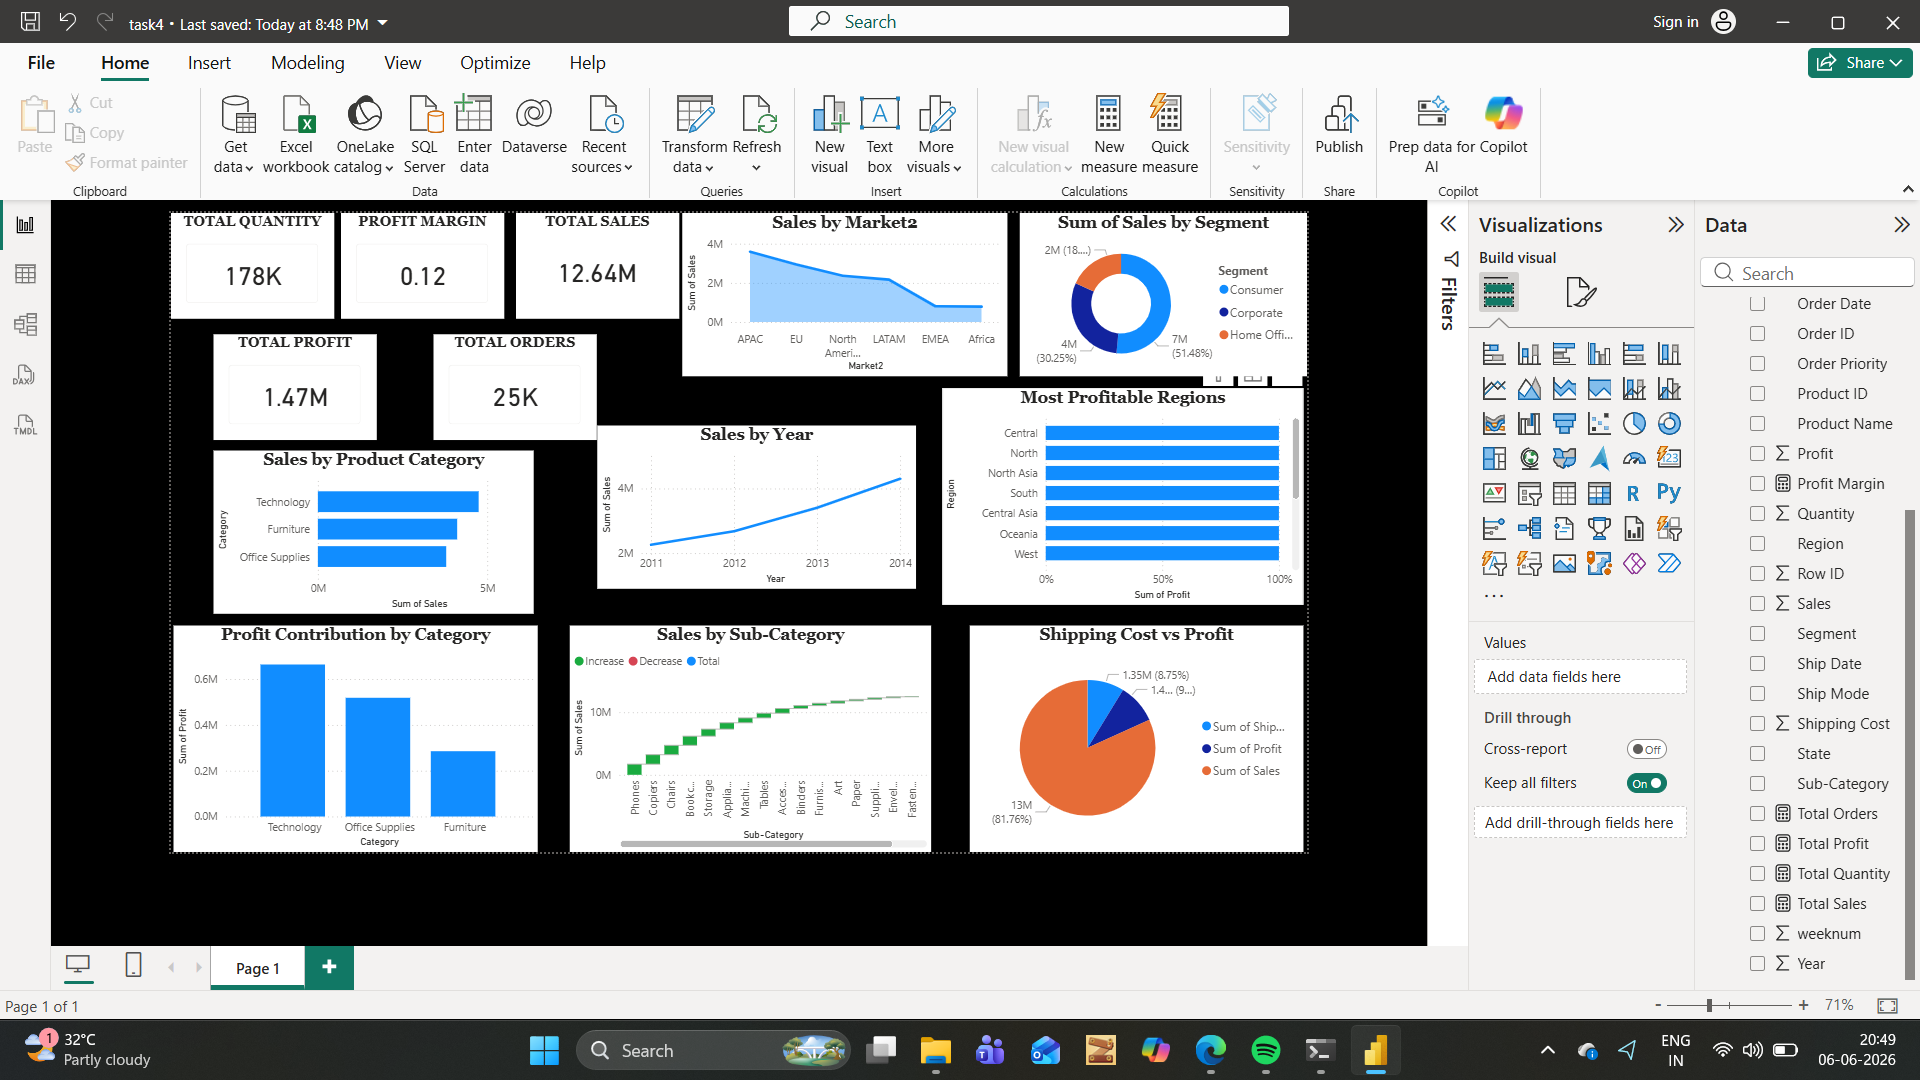

The page's visual inventory and layout, read from the dashboard file:
{"tool":"powerbi","page":{"name":"Page 1","canvas":[1280,720],"ordinal":0},"visuals":[{"type":"cardVisual","title":"TOTAL SALES","fields":{"Data":["Global Superstore.Total Sales"]},"box":[388.3,0,183.9,119.4],"z":0},{"type":"cardVisual","title":"TOTAL PROFIT","fields":{"Data":["Global Superstore.Total Profit"]},"box":[48,137.2,183.9,119.4],"z":1000},{"type":"cardVisual","title":"TOTAL ORDERS","fields":{"Data":["Global Superstore.Total Orders"]},"box":[296.4,137.2,183.9,119.4],"z":2000},{"type":"cardVisual","title":"TOTAL QUANTITY","fields":{"Data":["Global Superstore.Total Quantity"]},"box":[0,0,183.9,119.4],"z":3000},{"type":"cardVisual","title":"PROFIT MARGIN","fields":{"Data":["Global Superstore.Profit Margin"]},"box":[192.1,0,183.9,119.4],"z":4000},{"type":"lineChart","title":"Sales by Year","fields":{"Category":["Global Superstore.Year"],"Y":["Sum(Global Superstore.Sales)"]},"box":[480.3,240.1,359.5,183.9],"z":5000},{"type":"clusteredBarChart","title":"Sales by Product Category","fields":{"Category":["Global Superstore.Category"],"Y":["Sum(Global Superstore.Sales)"]},"box":[48,267.6,360.9,183.9],"z":6000},{"type":"clusteredColumnChart","title":"Profit Contribution by Category","fields":{"Y":["Sum(Global Superstore.Profit)"],"Category":["Global Superstore.Category"]},"box":[2.7,465.2,410.3,255.2],"z":6001},{"type":"areaChart","title":"Sales by Market2","fields":{"Category":["Global Superstore.Market2"],"Y":["Sum(Global Superstore.Sales)"]},"box":[576.3,0,366.4,183.9],"z":6002},{"type":"hundredPercentStackedBarChart","title":"Most Profitable Regions","fields":{"Category":["Global Superstore.Region"],"Y":["Sum(Global Superstore.Profit)"]},"box":[868.6,197.6,407.5,244.3],"z":6003},{"type":"donutChart","fields":{"Category":["Global Superstore.Segment"],"Y":["Sum(Global Superstore.Sales)"]},"box":[956.4,0,323.8,183.9],"z":6004},{"type":"waterfallChart","title":"Sales by Sub-Category","fields":{"Y":["Sum(Global Superstore.Sales)"],"Category":["Global Superstore.Sub-Category"]},"box":[448.7,465.2,407.5,255.2],"z":6005},{"type":"pieChart","title":"Shipping Cost vs Profit","fields":{"Y":["Sum(Global Superstore.Shipping Cost)","Sum(Global Superstore.Profit)","Sum(Global Superstore.Sales)"]},"box":[900.2,465.2,376,255.2],"z":6006}]}

Visuals, with their boxes on the page's 1280x720 design canvas (x1, y1, x2, y2). These are canvas units, not pixel positions in the 1920x1080 screenshot, which may show the page scaled, cropped or inside an application window:
"TOTAL SALES" cardVisual: <bbox>388, 0, 572, 119</bbox>
"TOTAL PROFIT" cardVisual: <bbox>48, 137, 232, 257</bbox>
"TOTAL ORDERS" cardVisual: <bbox>296, 137, 480, 257</bbox>
"TOTAL QUANTITY" cardVisual: <bbox>0, 0, 184, 119</bbox>
"PROFIT MARGIN" cardVisual: <bbox>192, 0, 376, 119</bbox>
"Sales by Year" lineChart: <bbox>480, 240, 840, 424</bbox>
"Sales by Product Category" clusteredBarChart: <bbox>48, 268, 409, 452</bbox>
"Profit Contribution by Category" clusteredColumnChart: <bbox>3, 465, 413, 720</bbox>
"Sales by Market2" areaChart: <bbox>576, 0, 943, 184</bbox>
"Most Profitable Regions" hundredPercentStackedBarChart: <bbox>869, 198, 1276, 442</bbox>
donutChart - Global Superstore.Segment x Sum(Global Superstore.Sales): <bbox>956, 0, 1280, 184</bbox>
"Sales by Sub-Category" waterfallChart: <bbox>449, 465, 856, 720</bbox>
"Shipping Cost vs Profit" pieChart: <bbox>900, 465, 1276, 720</bbox>
